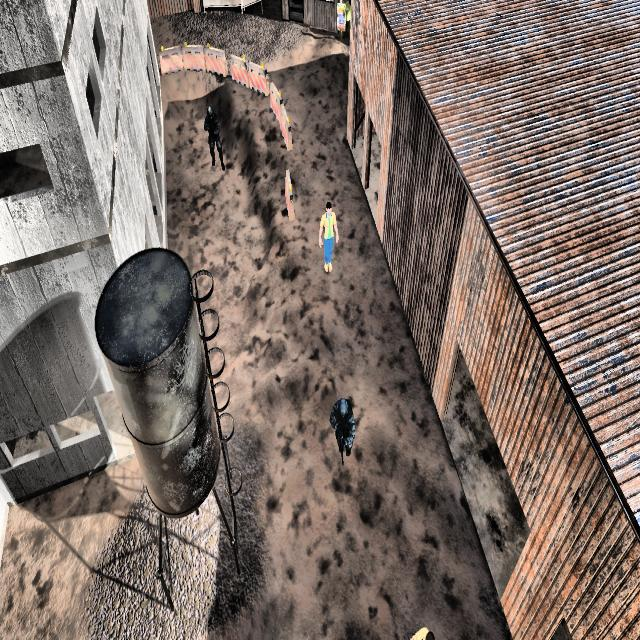bad: (330, 387, 361, 476), (200, 99, 228, 175)
good: (316, 198, 340, 278), (401, 606, 437, 640)
